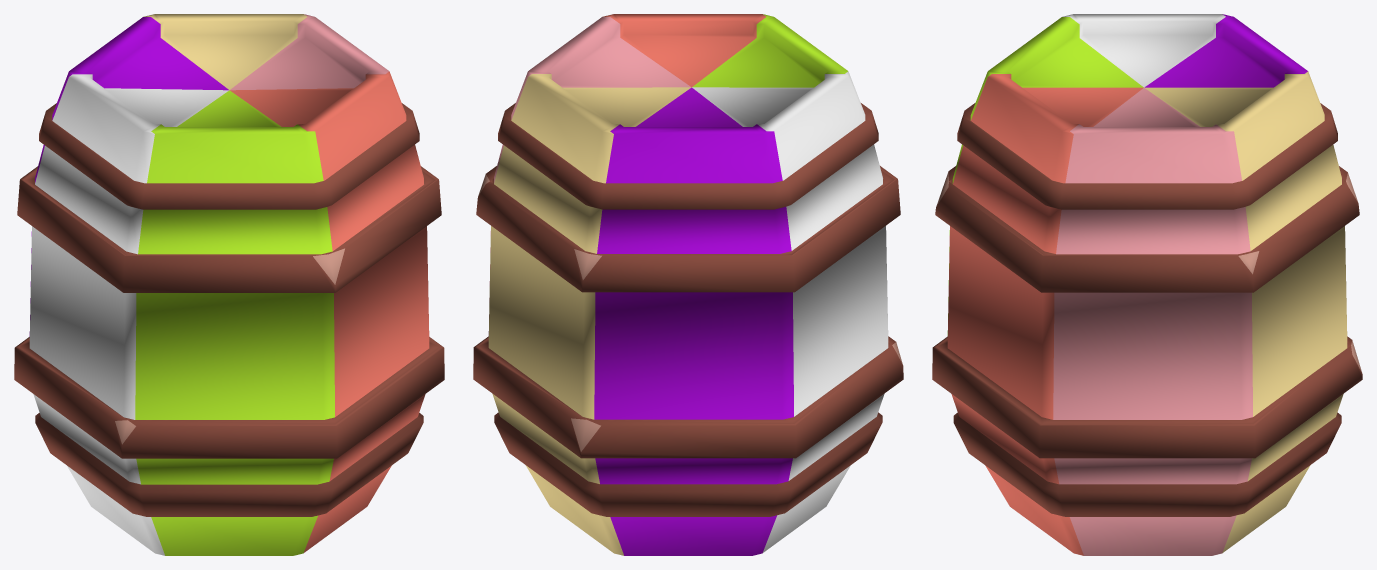
Rendered from barrel marshmallow 4combi.fbx.
The picture shows the model from 3 angles, left to right: view 1: azimuth 30°, elevation 25°; view 2: azimuth 150°, elevation 25°; view 3: azimuth 270°, elevation 25°; orthographic projection.
Parts seen in each view (by area): view 1: Cylinder; view 2: Cylinder; view 3: Cylinder.
Part boxes in pixels (left/top/right/bottom): Cylinder: left=14, top=14, right=444, bottom=555; Cylinder: left=473, top=14, right=903, bottom=555; Cylinder: left=932, top=14, right=1362, bottom=555.
Size of the model in its own units: 235 by 299 by 272.
